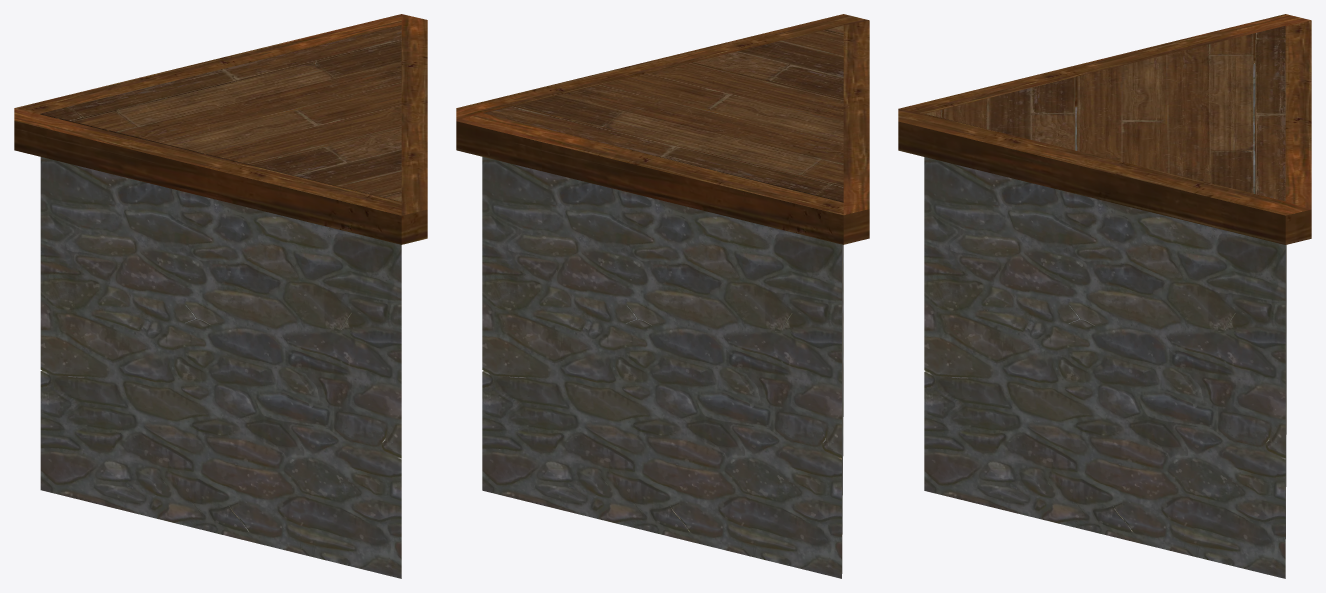
3 views of the same model, side by side, from view 1: azimuth 30°, elevation 25°; view 2: azimuth 150°, elevation 25°; view 3: azimuth 270°, elevation 25° (orthographic).
Parts seen in each view (by area): view 1: SM_BB_T2_Foundation_Trangle_Large_LOD0; view 2: SM_BB_T2_Foundation_Trangle_Large_LOD0; view 3: SM_BB_T2_Foundation_Trangle_Large_LOD0.
Boxes of the visible parts, bbox=[...] form: SM_BB_T2_Foundation_Trangle_Large_LOD0: bbox=[14, 14, 427, 578]; SM_BB_T2_Foundation_Trangle_Large_LOD0: bbox=[456, 14, 869, 578]; SM_BB_T2_Foundation_Trangle_Large_LOD0: bbox=[898, 14, 1311, 578].
Bounding box in the file's own units: 3.43 × 3 × 2.97.
Materials: 3 (3 with a texture image).
